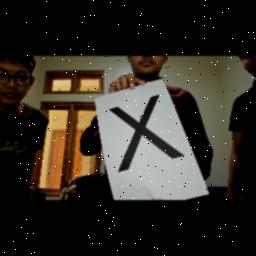x: (102, 90, 186, 176)
